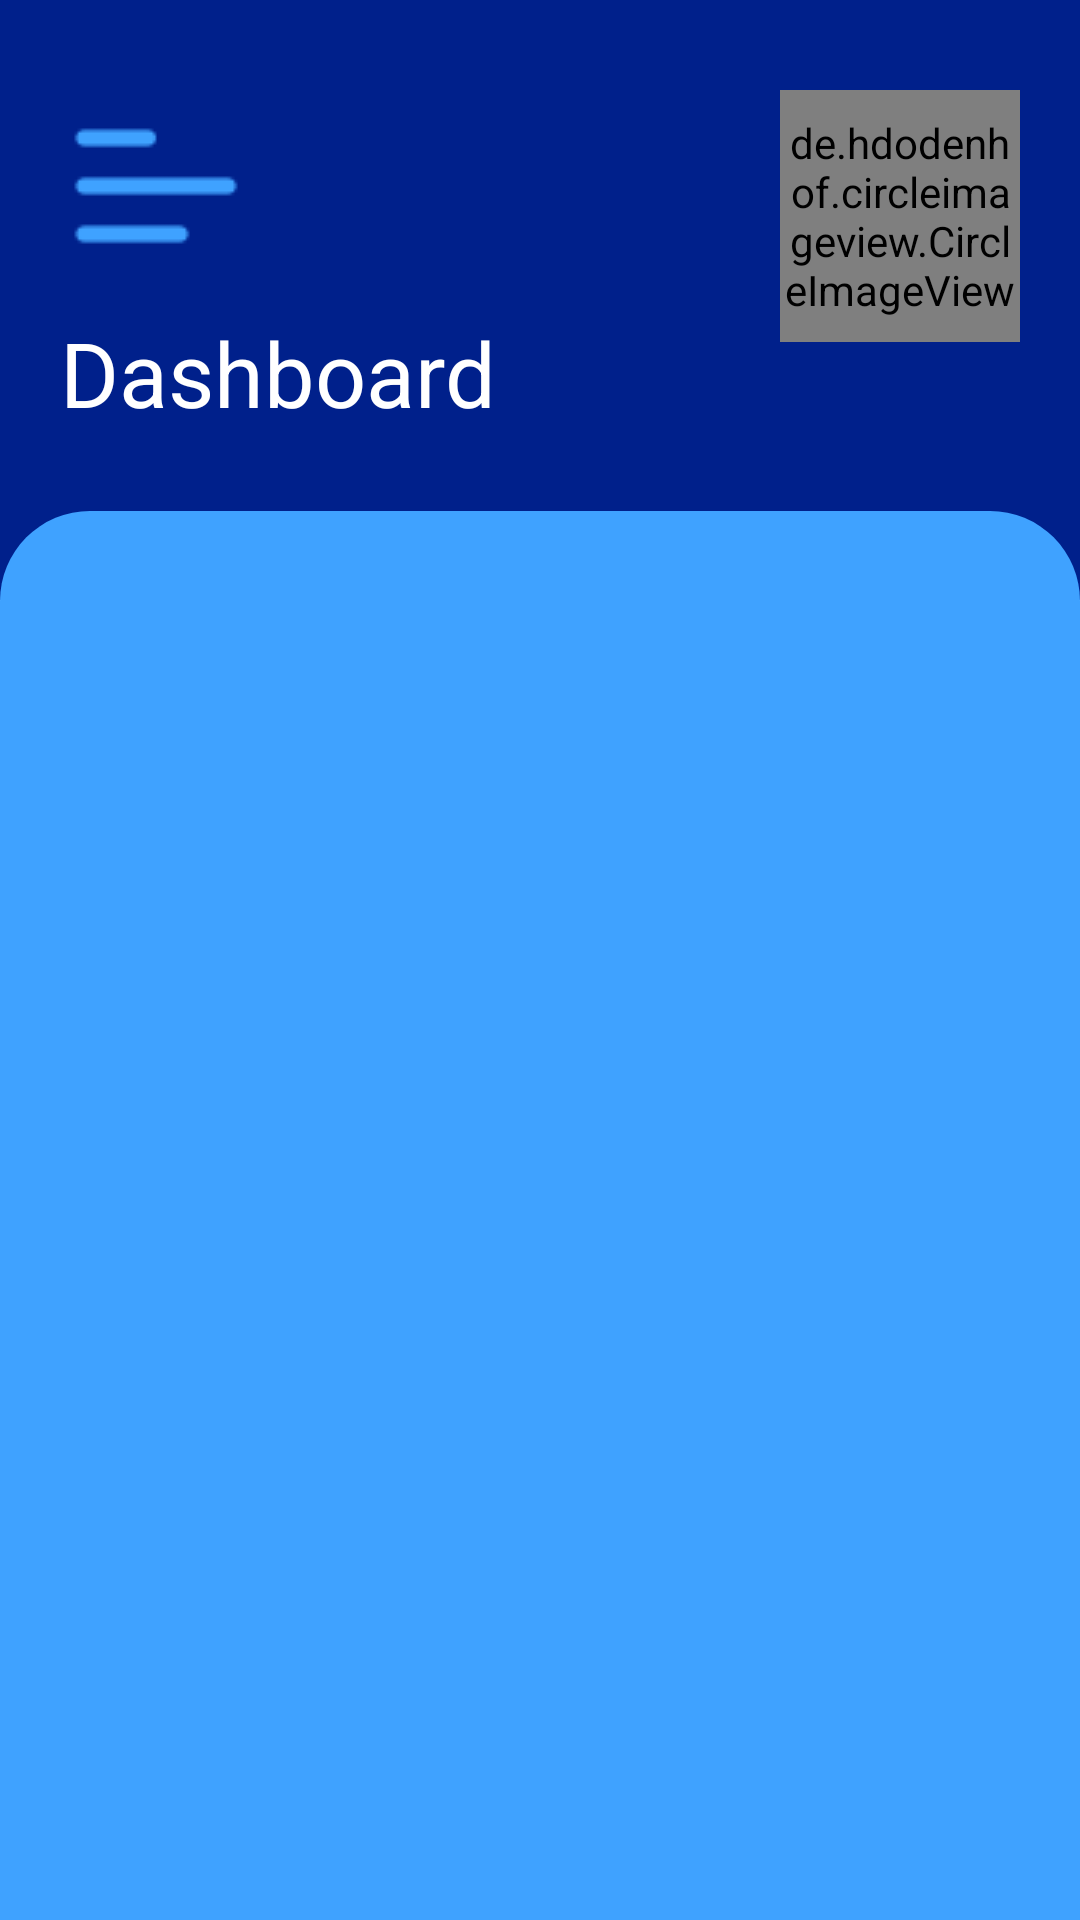

Icons on this 1080px×1920px Android screen, each with its box as (x1, y1, x2, y2):
menu: (74, 128, 238, 244)
